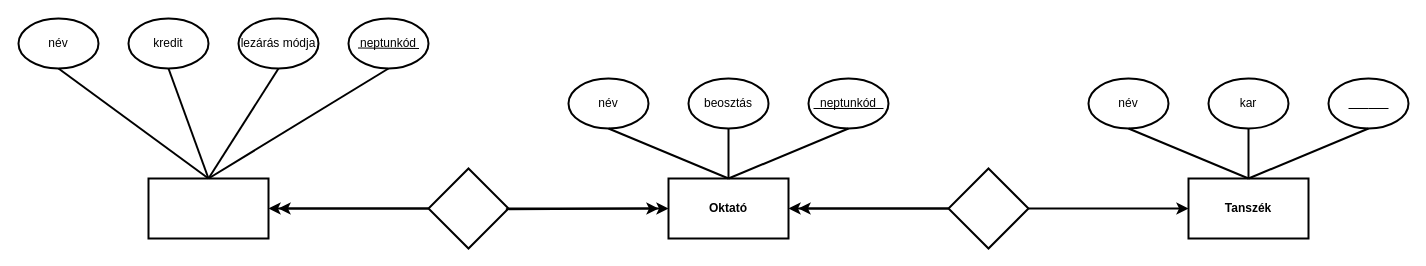
This 1426x266 diagram has some shape labels left out. Each missing label, with the centre of its shape:
"kód" belongs at (x=1368, y=103).
"O-T" belongs at (x=468, y=208).
"T-O" belongs at (x=988, y=208).
"Tárgy" belongs at (x=208, y=208).
